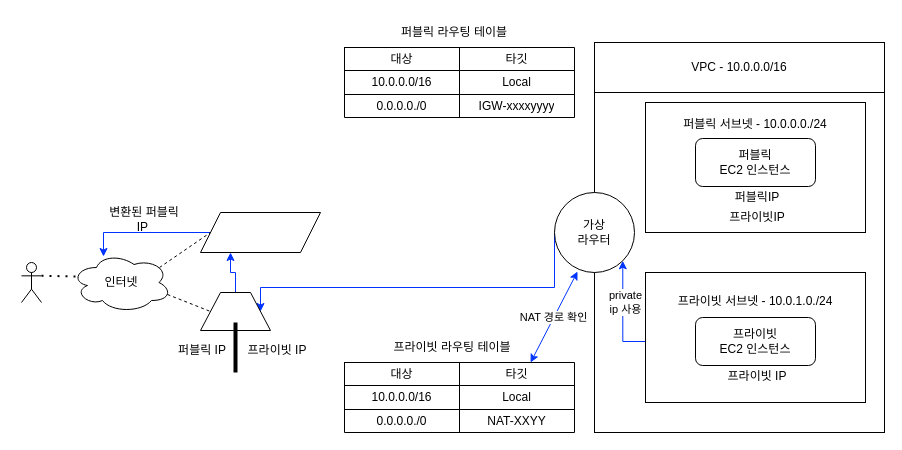
The diagram is 902 pixels wide and 450 high, and some of its shapes have lost their labels. Here are the shapes that lost their labels. From the top down, the centre of each, then its label:
At (x=260, y=232): "인터넷 게이트웨이".
At (x=31, y=282): "Actor".
At (x=235, y=311): "NAT".
